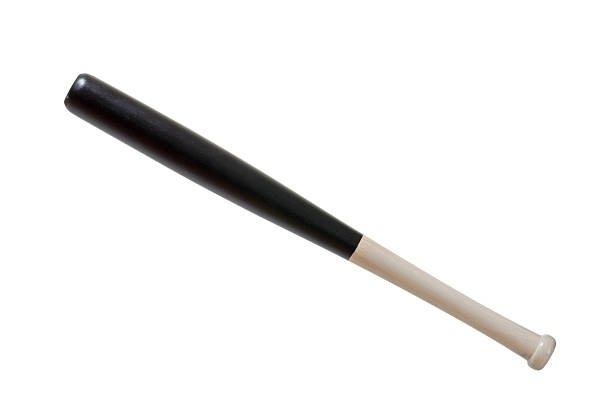bita: (59, 75, 564, 366)
